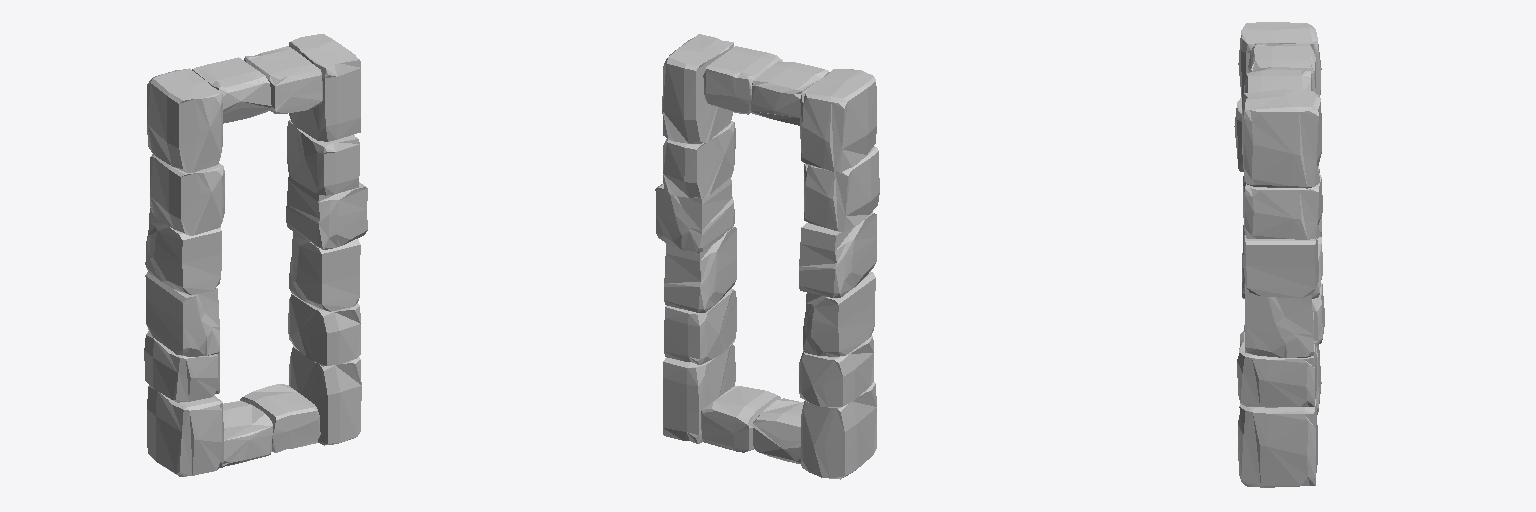
Rendered from Window_Thin_Flat_Rocks.obj.
3 renders of one model, left to right at view 1: azimuth 30°, elevation 25°; view 2: azimuth 150°, elevation 25°; view 3: azimuth 270°, elevation 25°, orthographic.
Parts seen in each view (by area): view 1: Window_Thin_Flat_Rocks; view 2: Window_Thin_Flat_Rocks; view 3: Window_Thin_Flat_Rocks.
Boxes of the visible parts, <box> form: Window_Thin_Flat_Rocks: <box>144,34,367,476</box>; Window_Thin_Flat_Rocks: <box>655,34,879,479</box>; Window_Thin_Flat_Rocks: <box>1234,22,1324,487</box>.
Size of the model in its own units: 0.8411 by 1.61 by 0.3484.